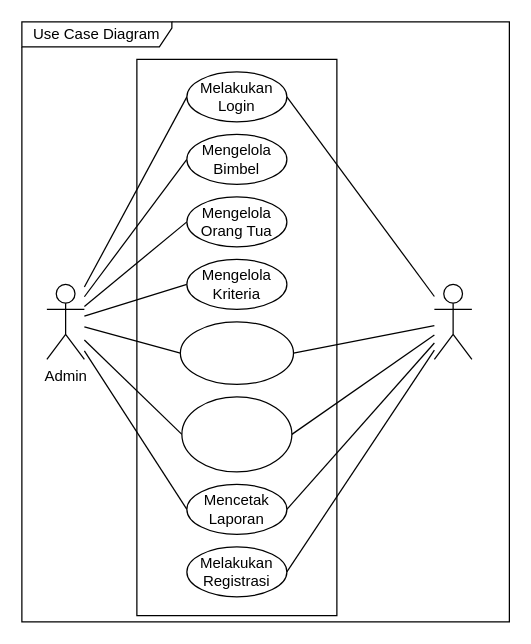
Image size: 531x644. Some labels were removed from this diagram. The shapes that lost their labels are listed below. From the top down, each one's centre as x and y in pixels, then its label:
At point 452,321: "Orang Tua".
At point 236,352: "Mengelola SPK Bimbel".
At point 236,434: "Melihat Hasil Rekomendasi Bimbel".
